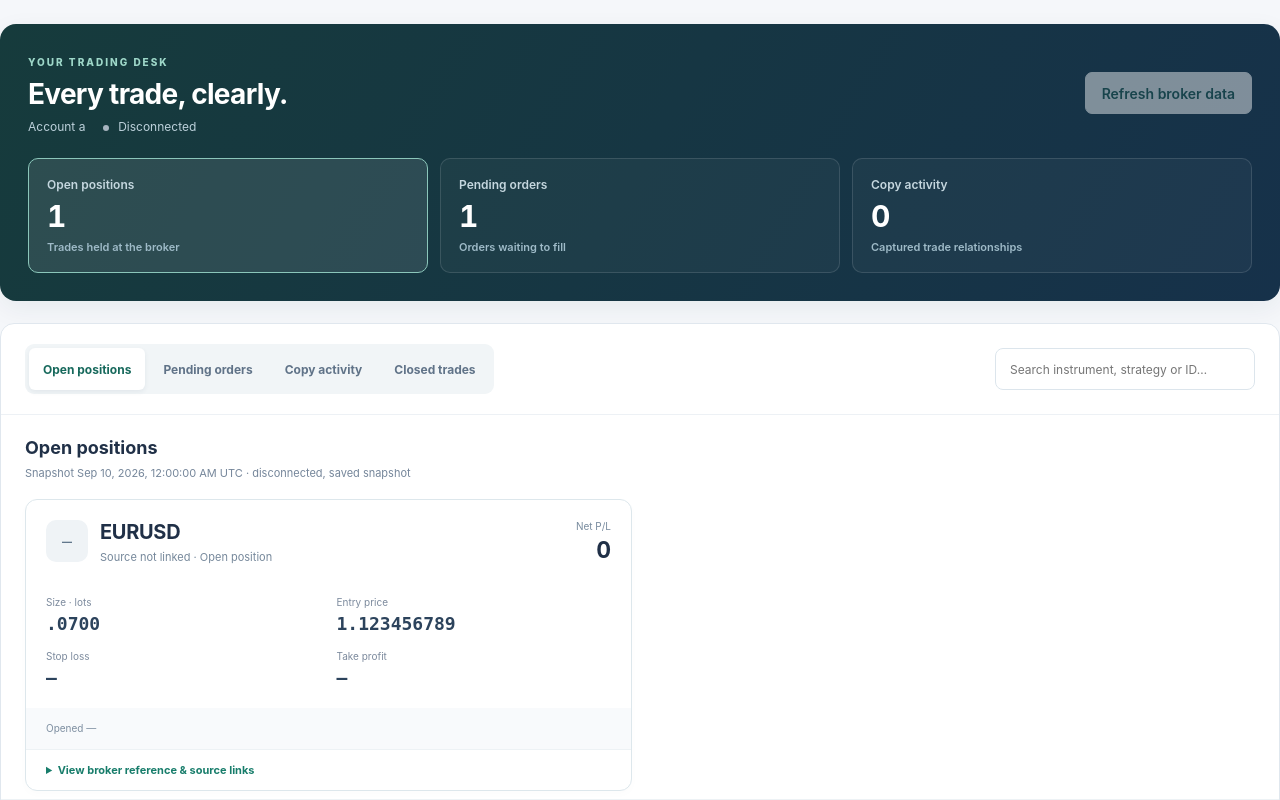
position P/L preserves net zero and precision, pending has no fabricated profit
Expected: the text "0" below "Net P/L" is shown, [596, 536, 611, 564]
Click the button "Pending orders": (208, 369) [149, 348, 267, 390]
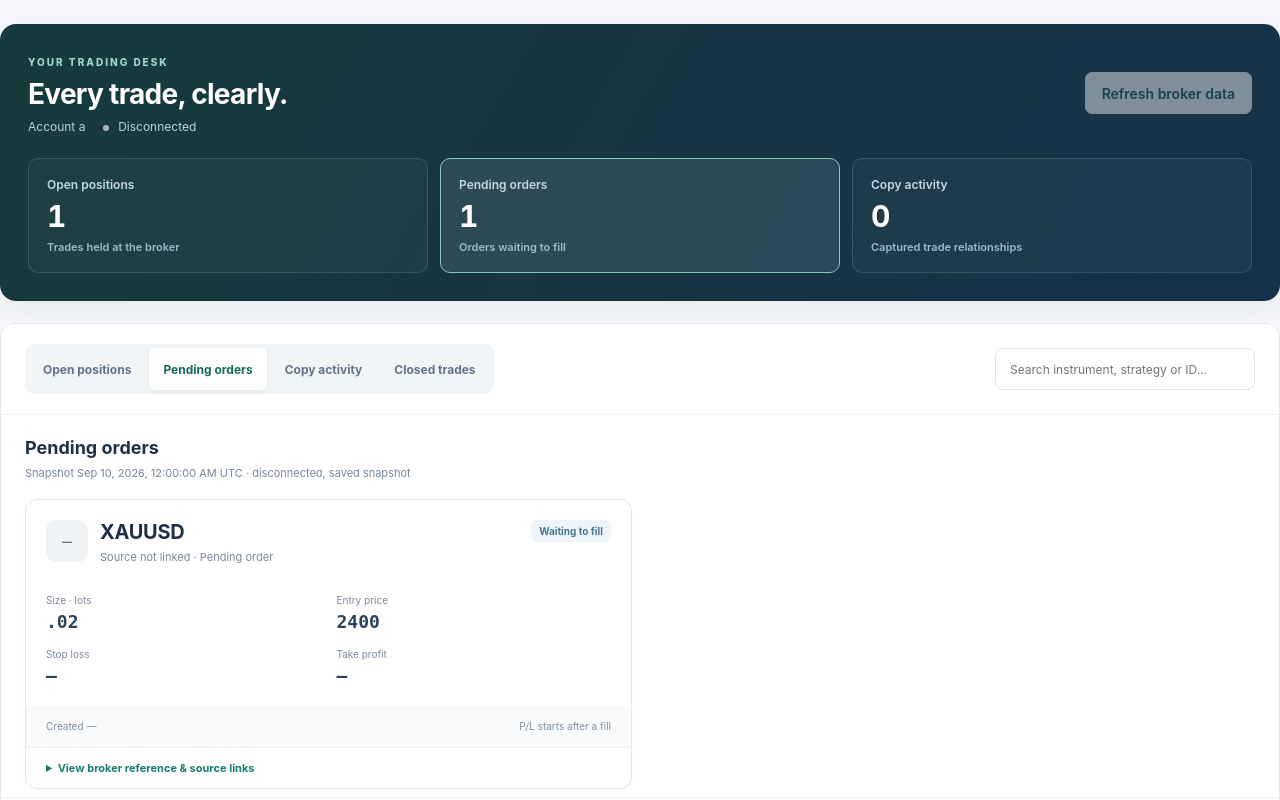
Expected: the element with class "order-profit" is gone
Expected: the text "P/L starts after a fill" is shown, [519, 718, 611, 735]
